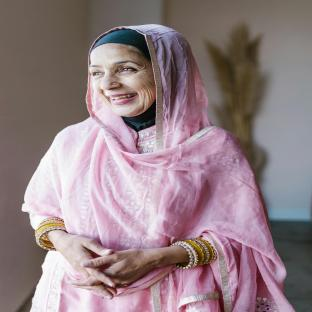Human: (23, 24, 294, 312)
